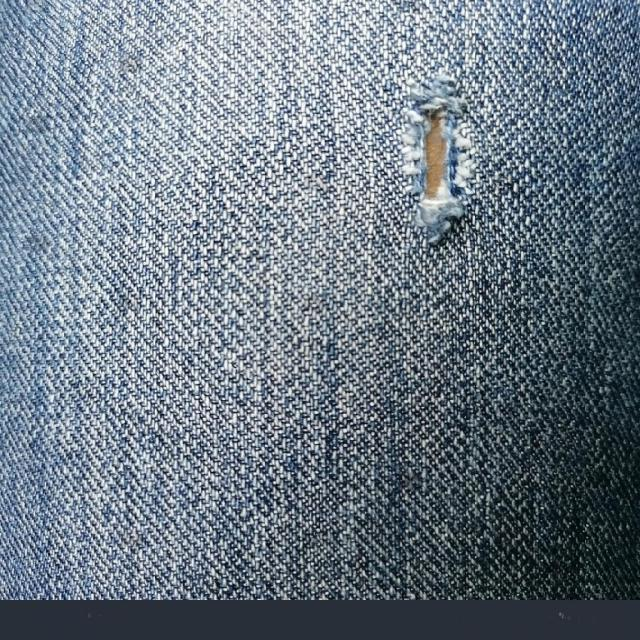Hole: (403, 73, 475, 243)
